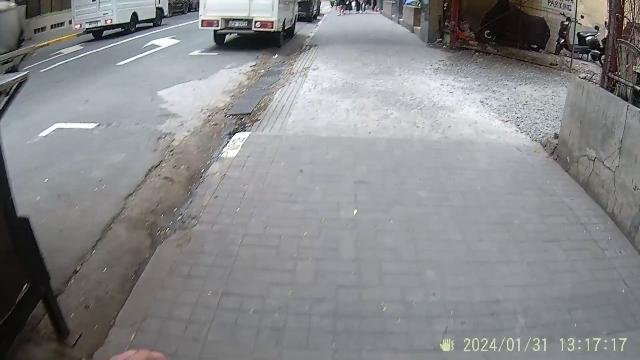car: (198, 0, 302, 50)
